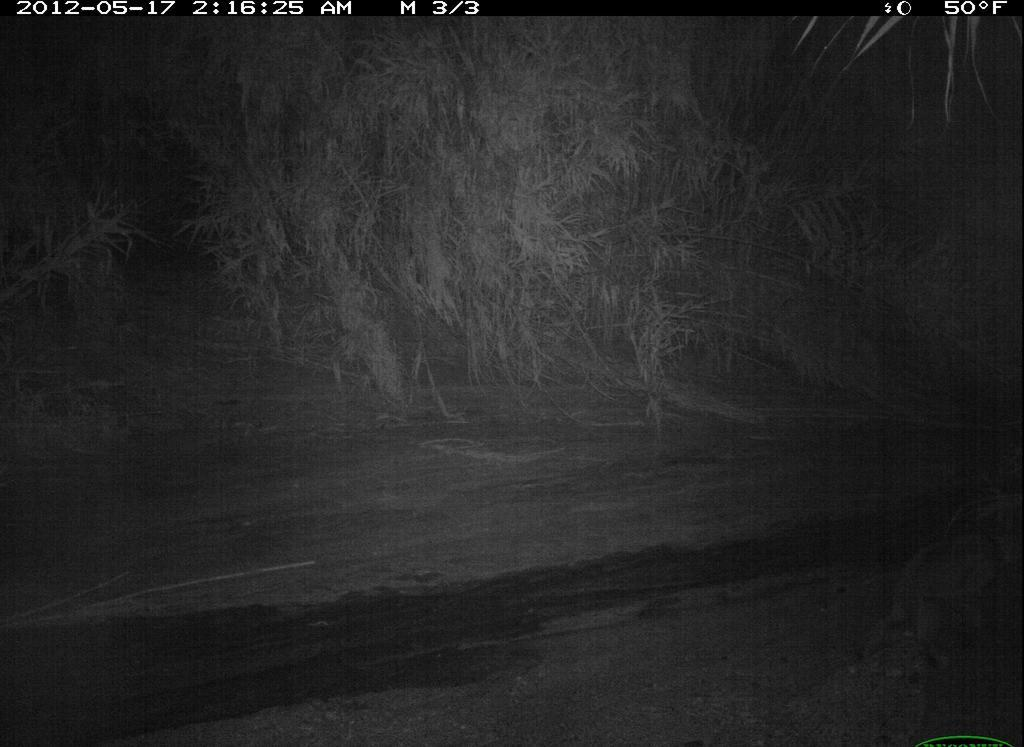bobcat: (881, 529, 1021, 666)
